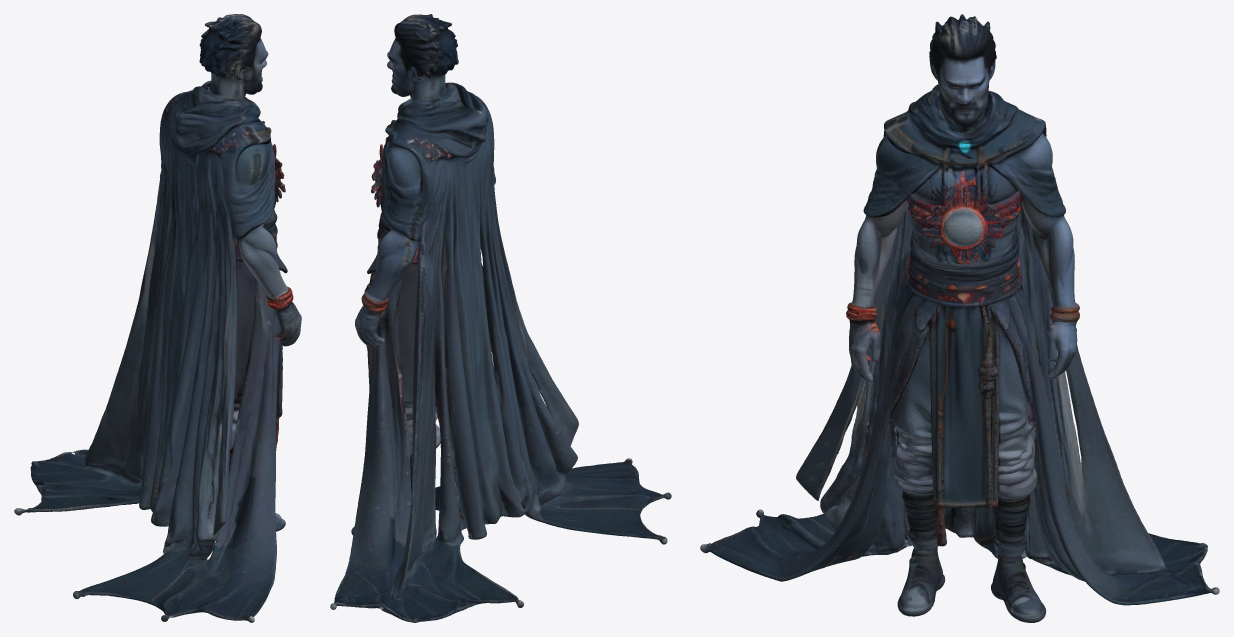
Rendered from modelo18.glb.
3 views of the same model, side by side, from view 1: azimuth 30°, elevation 25°; view 2: azimuth 150°, elevation 25°; view 3: azimuth 270°, elevation 25° (orthographic). The views are drawn at different scales.
Parts seen in each view (by area): view 1: tripo_node_78900073-1805-435a-9e66-0b7d29f77fff; view 2: tripo_node_78900073-1805-435a-9e66-0b7d29f77fff; view 3: tripo_node_78900073-1805-435a-9e66-0b7d29f77fff.
Part boxes in pixels (box(x1,y1,x2,y2)): tripo_node_78900073-1805-435a-9e66-0b7d29f77fff: box(14, 14, 301, 622); tripo_node_78900073-1805-435a-9e66-0b7d29f77fff: box(330, 14, 671, 622); tripo_node_78900073-1805-435a-9e66-0b7d29f77fff: box(700, 14, 1219, 622).
Bounding box in the file's own units: 0.5177 × 1 × 0.8012.
1 material, 1 textured.
